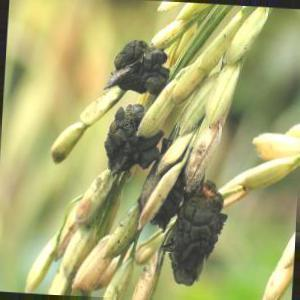Leaf_Scald: (108, 114, 154, 176), (110, 53, 176, 94), (164, 234, 210, 286), (179, 183, 226, 231)
